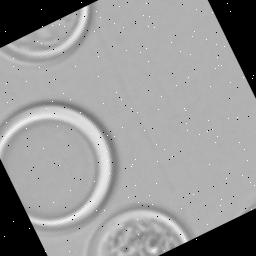picoshell: (0, 101, 115, 229), (82, 202, 195, 256), (0, 4, 92, 65), (238, 197, 256, 217)
